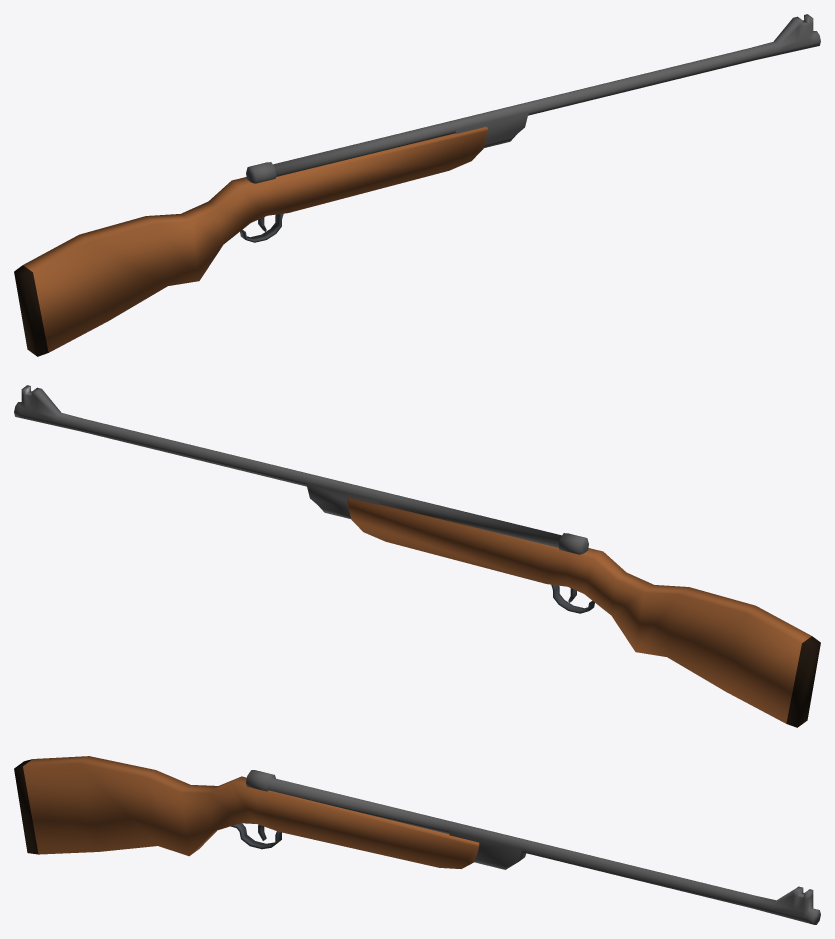
File: pellet_gun.glb
The picture shows the model from 3 angles, top to bottom: view 1: azimuth 30°, elevation 25°; view 2: azimuth 150°, elevation 25°; view 3: azimuth 330°, elevation 25°; orthographic projection.
Visible parts, largest first — view 1: Cube.010; view 2: Cube.010; view 3: Cube.010.
Boxes of the visible parts, x1,y1,x2,y2 form: Cube.010: (14,14,820,356); Cube.010: (14,385,820,727); Cube.010: (14,756,820,924).
Bounding box in the file's own units: 1.34 × 0.2361 × 0.0303.
